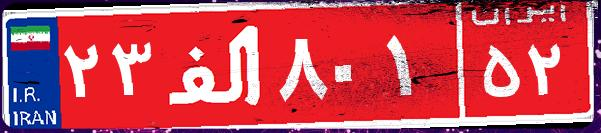0: (330, 28, 385, 110)
1: (385, 28, 445, 110)
2: (57, 26, 110, 107), (525, 38, 570, 115)
3: (110, 28, 158, 105)
5: (475, 38, 525, 113)
8: (273, 28, 330, 110)
الف: (158, 15, 273, 115)
